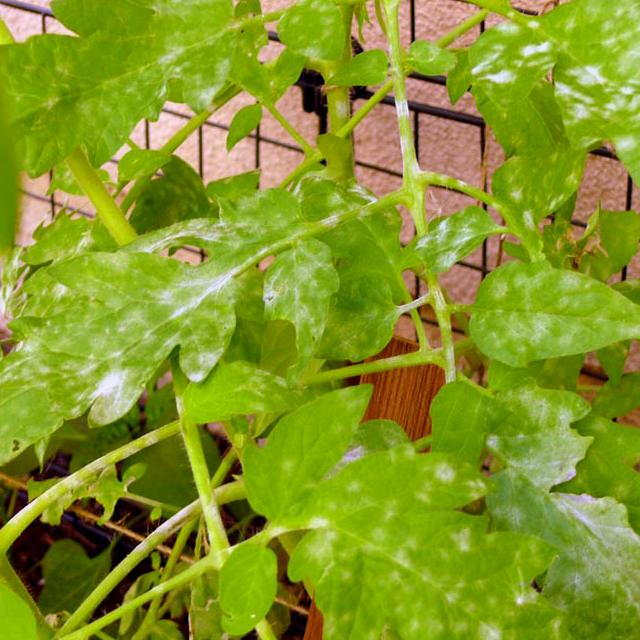Tomato mold leaf: (0, 186, 335, 497), (230, 383, 569, 640), (525, 2, 640, 486), (0, 0, 285, 161), (450, 258, 640, 363), (394, 205, 486, 276)
